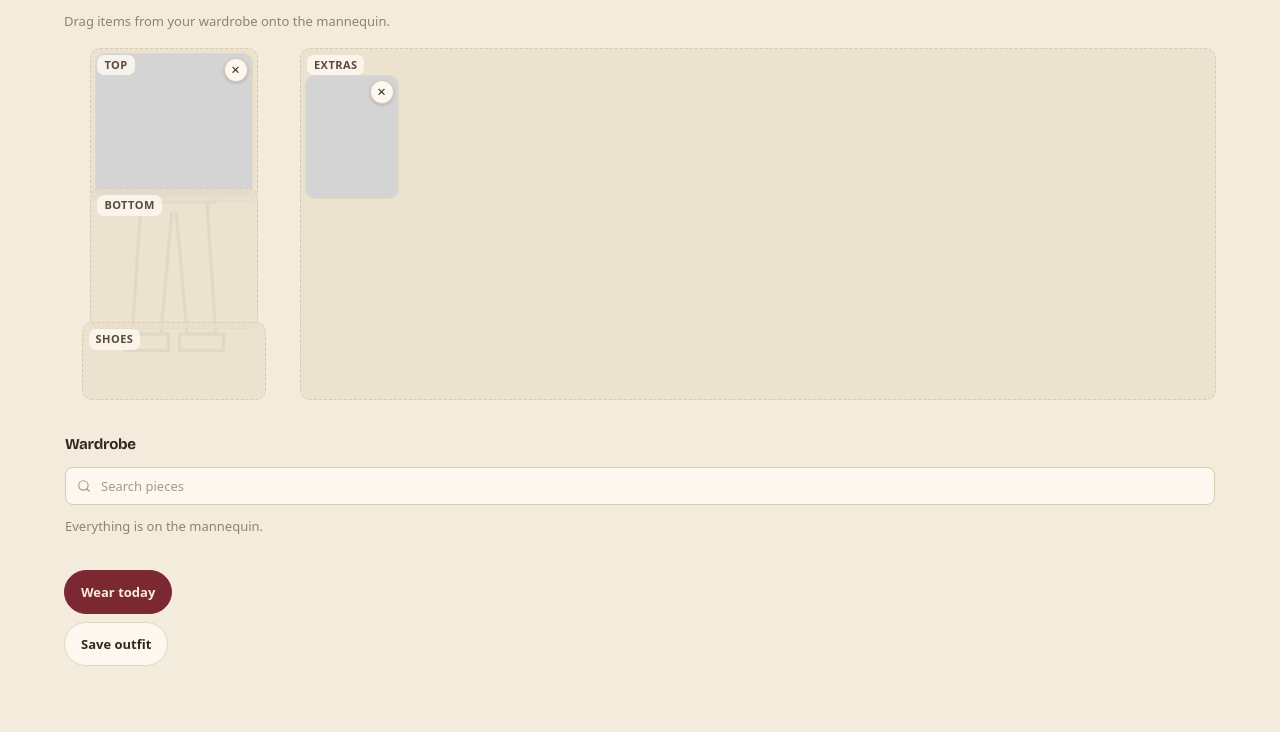
Assemble wear-today fan-out › logs every placed item via markWorn exactly once and locks to "Logged ✓" on success
The image size is (1280, 732).
Expected: the text "Top" is shown, [97,54,134,75]
Click the button "Wear today" at (118, 592), box [64,570,172,614]
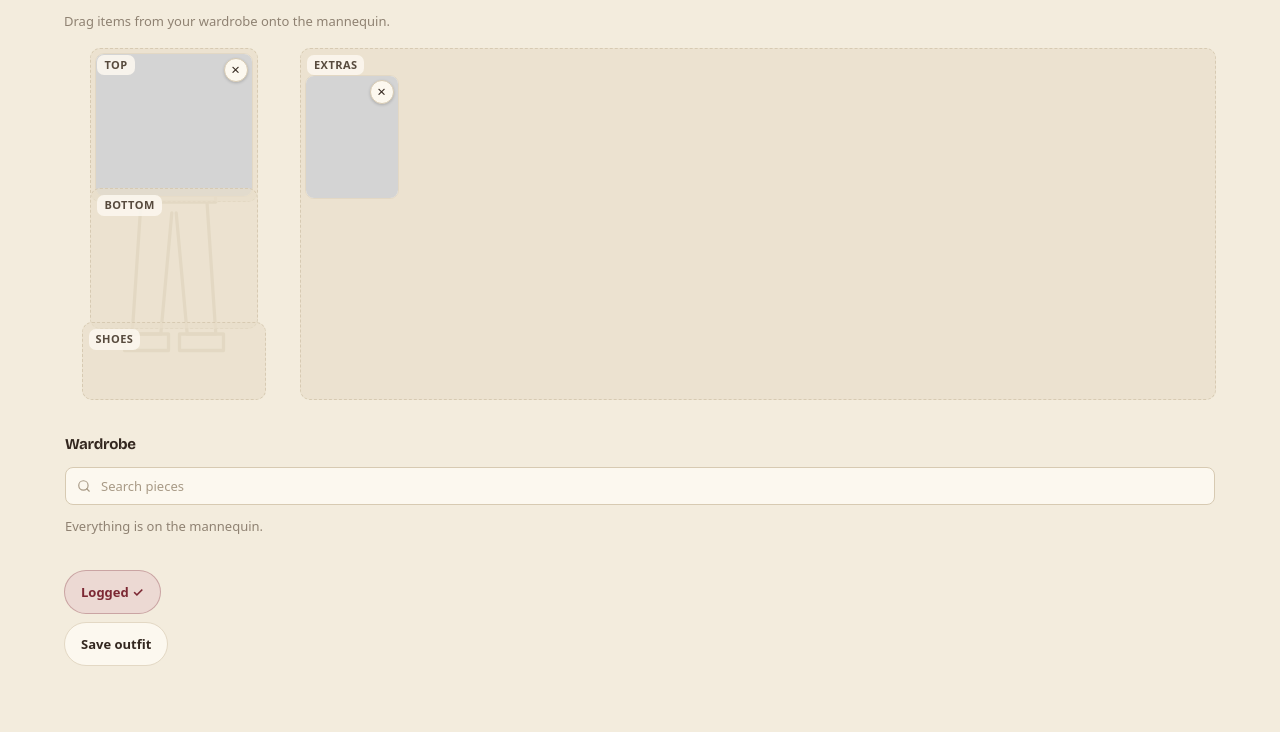
Now the button "Logged ✓" is disabled, box [64,570,161,614]
